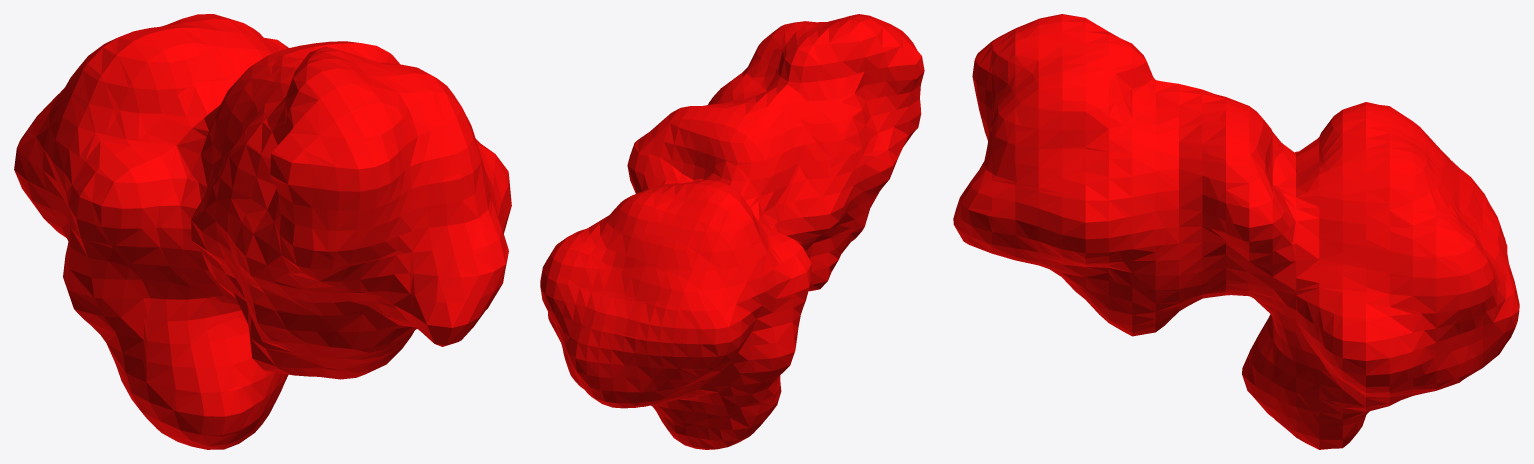
The model's file is phoP_coarse.dae.
3 views of the same model, side by side, from view 1: azimuth 30°, elevation 25°; view 2: azimuth 150°, elevation 25°; view 3: azimuth 270°, elevation 25° (orthographic). The views are drawn at different scales.
Parts seen in each view (by area): view 1: phoP; view 2: phoP; view 3: phoP.
Part boxes in pixels (box(x1,y1,x2,y2)): phoP: box(14, 14, 511, 449); phoP: box(540, 14, 924, 449); phoP: box(953, 14, 1519, 449).
Size of the model in its own units: 39.88 by 56.48 by 71.29.
